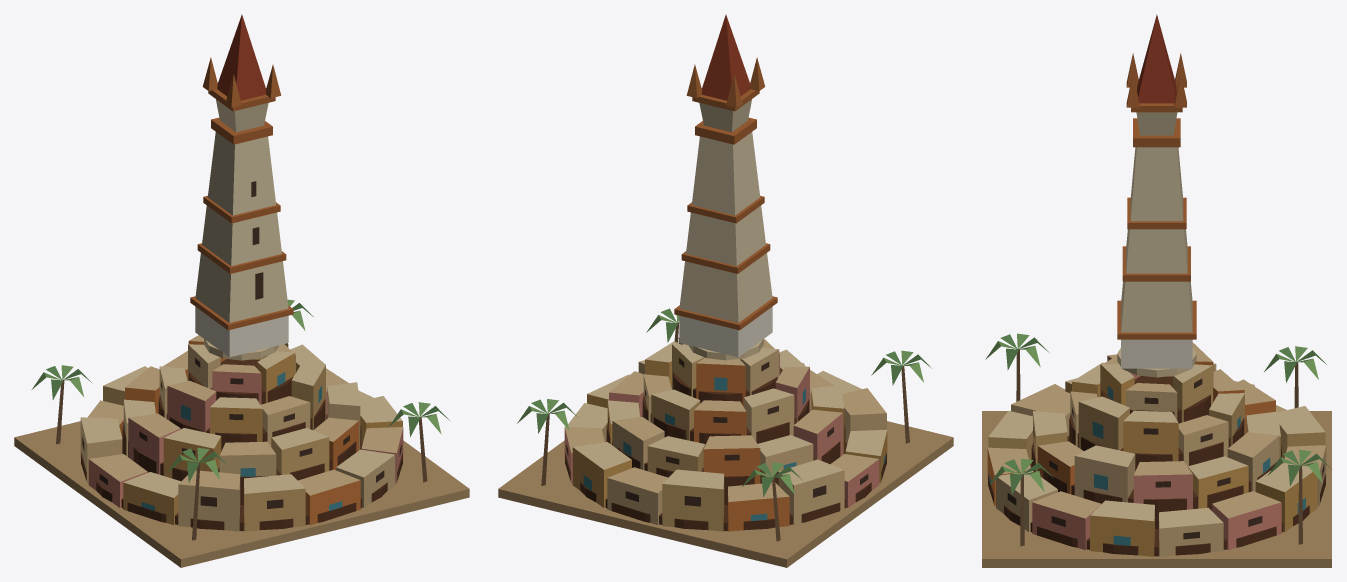
The model's file is ghardaia.glb.
3 views of the same model, side by side, from view 1: azimuth 30°, elevation 25°; view 2: azimuth 150°, elevation 25°; view 3: azimuth 270°, elevation 25° (orthographic). The views are drawn at different scales.
Visible parts, largest first — view 1: ghardaia; view 2: ghardaia; view 3: ghardaia.
Part boxes in pixels (x1,y1,x2,y2): ghardaia: (14,14,469,567); ghardaia: (498,14,953,567); ghardaia: (982,14,1331,567).
Bounding box in the file's own units: 1.76 × 2.66 × 1.77.
